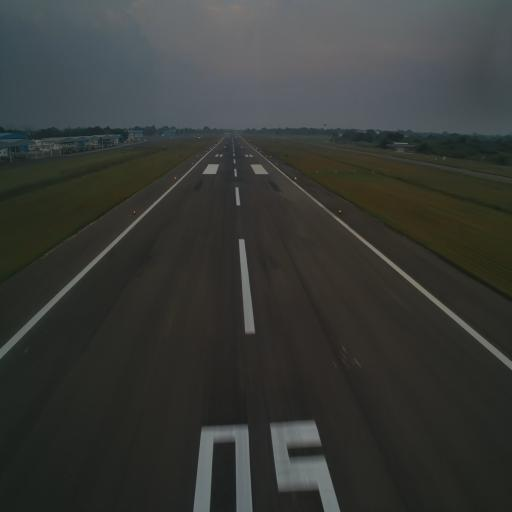on: (338, 208, 343, 214), (294, 175, 297, 182), (132, 208, 136, 213), (174, 175, 177, 181)
